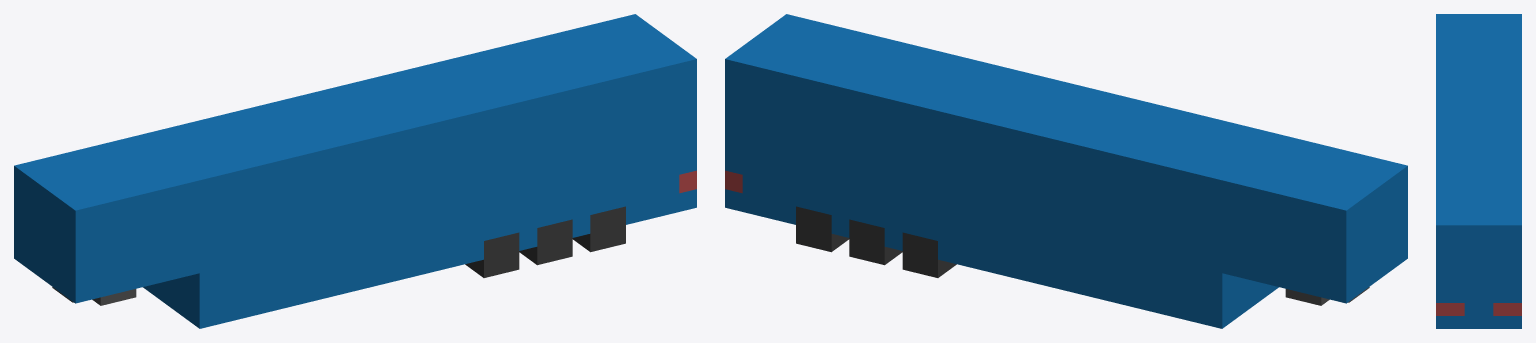
The model's file is semitrailer-v1-blue.gltf.
3 renders of one model, left to right at view 1: azimuth 30°, elevation 25°; view 2: azimuth 150°, elevation 25°; view 3: azimuth 270°, elevation 25°, orthographic. The views are drawn at different scales.
Parts seen in each view (by area): view 1: model, wheels; view 2: model, wheels; view 3: model.
Boxes of the visible parts, x1,y1,x2,y2 form: model: (14,14,696,328); wheels: (465,206,625,277); model: (725,14,1407,328); wheels: (796,206,956,277); model: (1436,14,1521,328).
Size of the model in its own units: 3.5 by 0.9 by 0.6.
2 materials, 2 textured.
